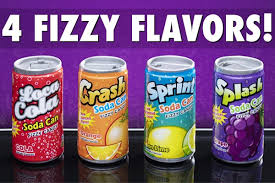can: (10, 53, 269, 169)
